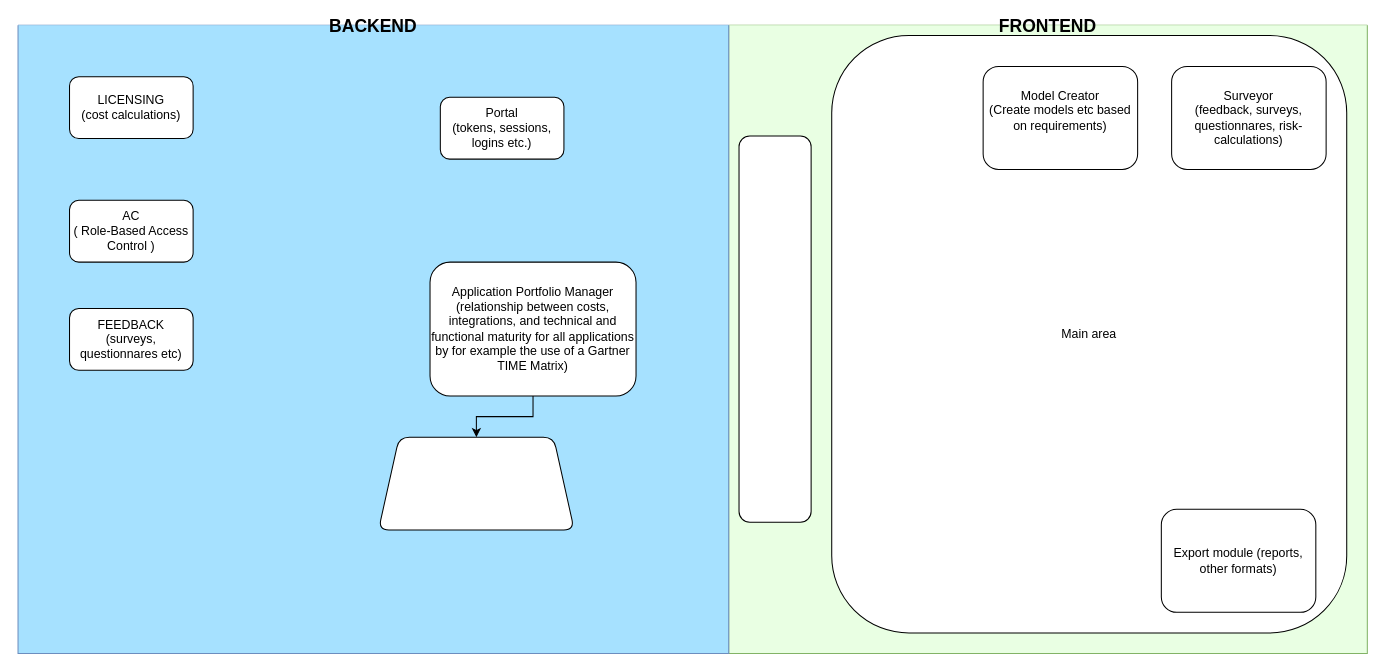
The diagram is 1385 pixels wide and 672 high, and some of its shapes have lost their labels. Here are the shapes that lost their labels. From the top down, the centre of each, then its label:
At point (774, 328): "Login portal".
At point (475, 483): "Store relationships".
